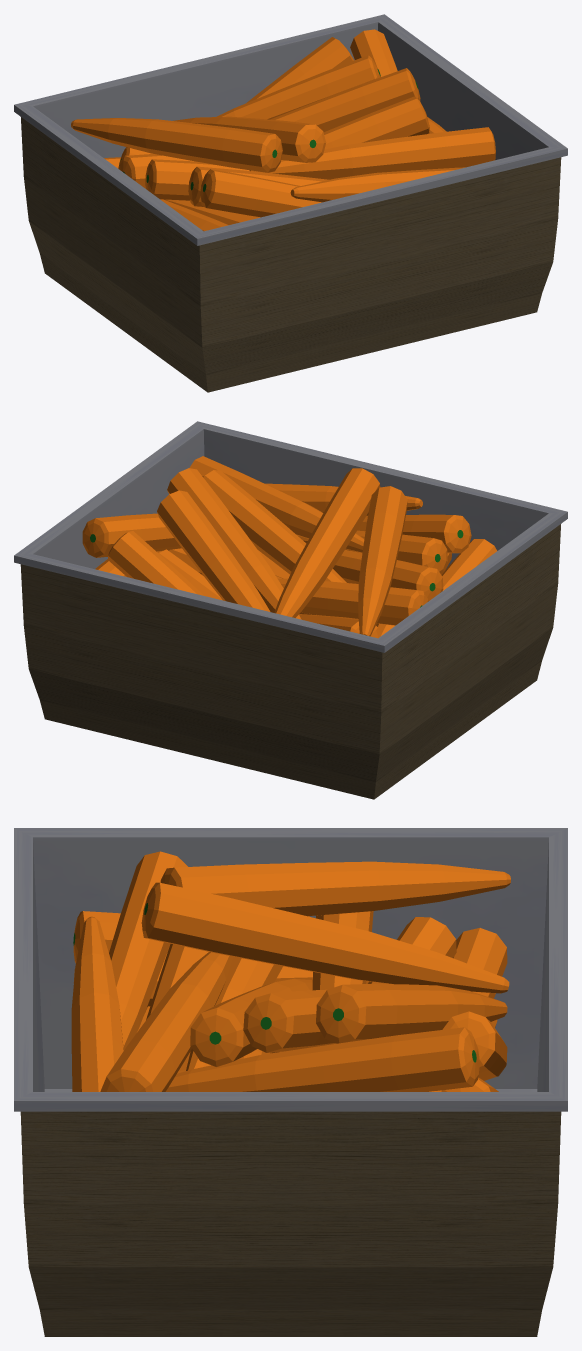
File: KarottenBox.fbx
3 renders of one model, top to bottom at view 1: azimuth 30°, elevation 25°; view 2: azimuth 150°, elevation 25°; view 3: azimuth 270°, elevation 25°, orthographic. The views are drawn at different scales.
Parts seen in each view (by area): view 1: KarottenBox; view 2: KarottenBox; view 3: KarottenBox.
Part boxes in pixels (box(x1,y1,x2,y2)): KarottenBox: box(14, 14, 567, 392); KarottenBox: box(14, 421, 567, 799); KarottenBox: box(14, 828, 567, 1336).
Size of the model in its own units: 70 by 37.28 by 60.
